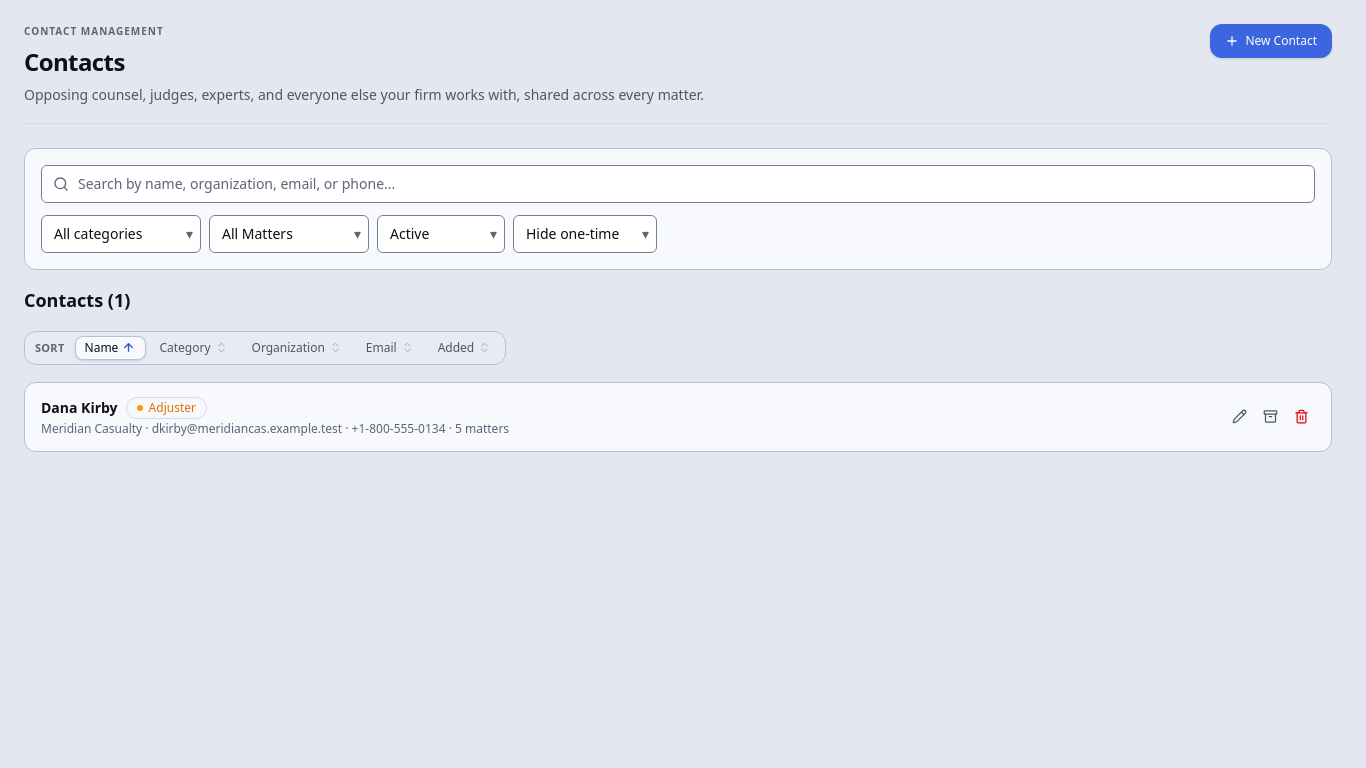
Test: ContactsGrid archive confirmation modal › shows a confirmation popup when clicking the archive button on an active contact
Expected: the text "Dana Kirby" is shown, top-left (41, 398), bottom-right (118, 418)
Note: Clicking archive opens the confirmation modal
Click the button named "Archive".
click(1270, 417)  # box top-left (1257, 403), bottom-right (1284, 430)
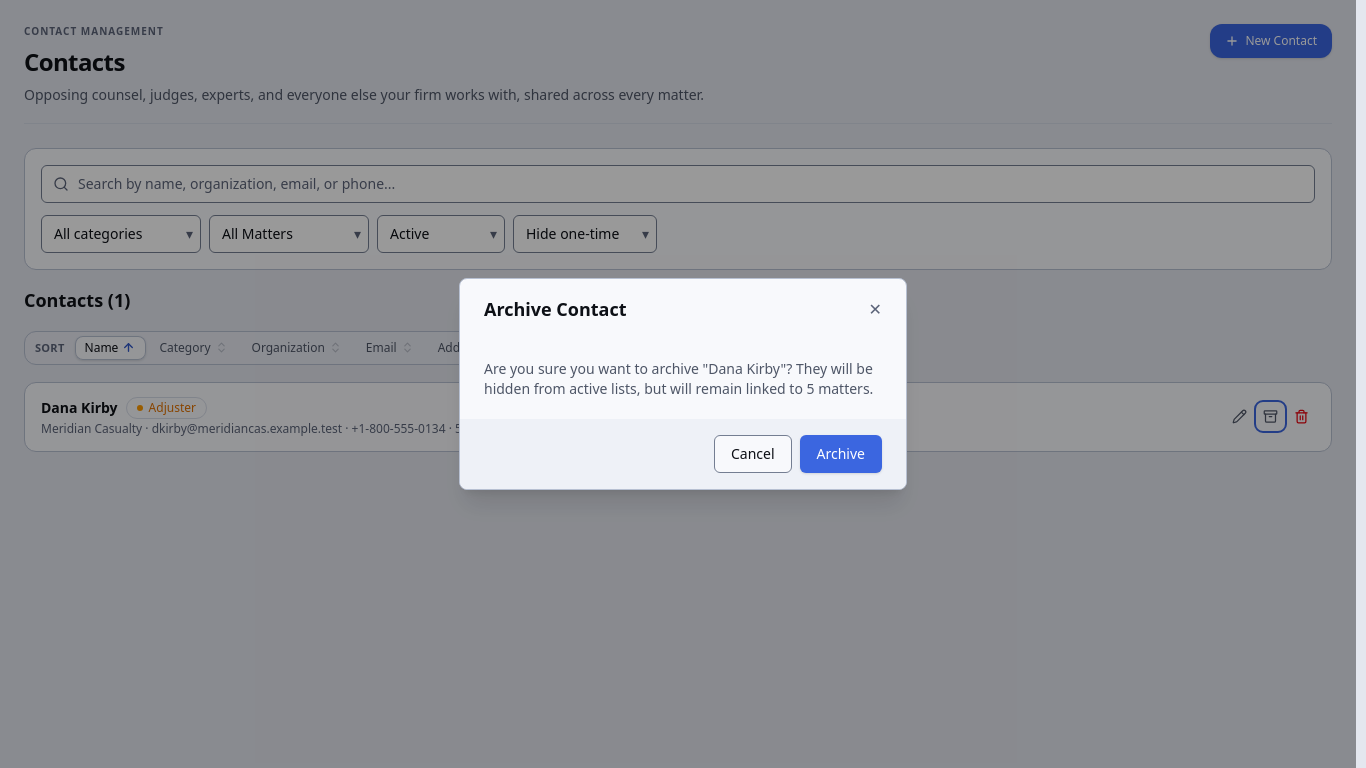
Expected: the heading "Archive Contact" is shown, top-left (484, 295), bottom-right (626, 323)
Expected: the text "Are you sure you want to archive \"Dana Kirby\"?" is shown, top-left (484, 359), bottom-right (873, 398)
Expected: the button "Cancel" is shown
Note: Clicking Cancel closes the modal without updating the contact
Click the button "Cancel".
click(753, 454)  # box top-left (714, 435), bottom-right (792, 473)
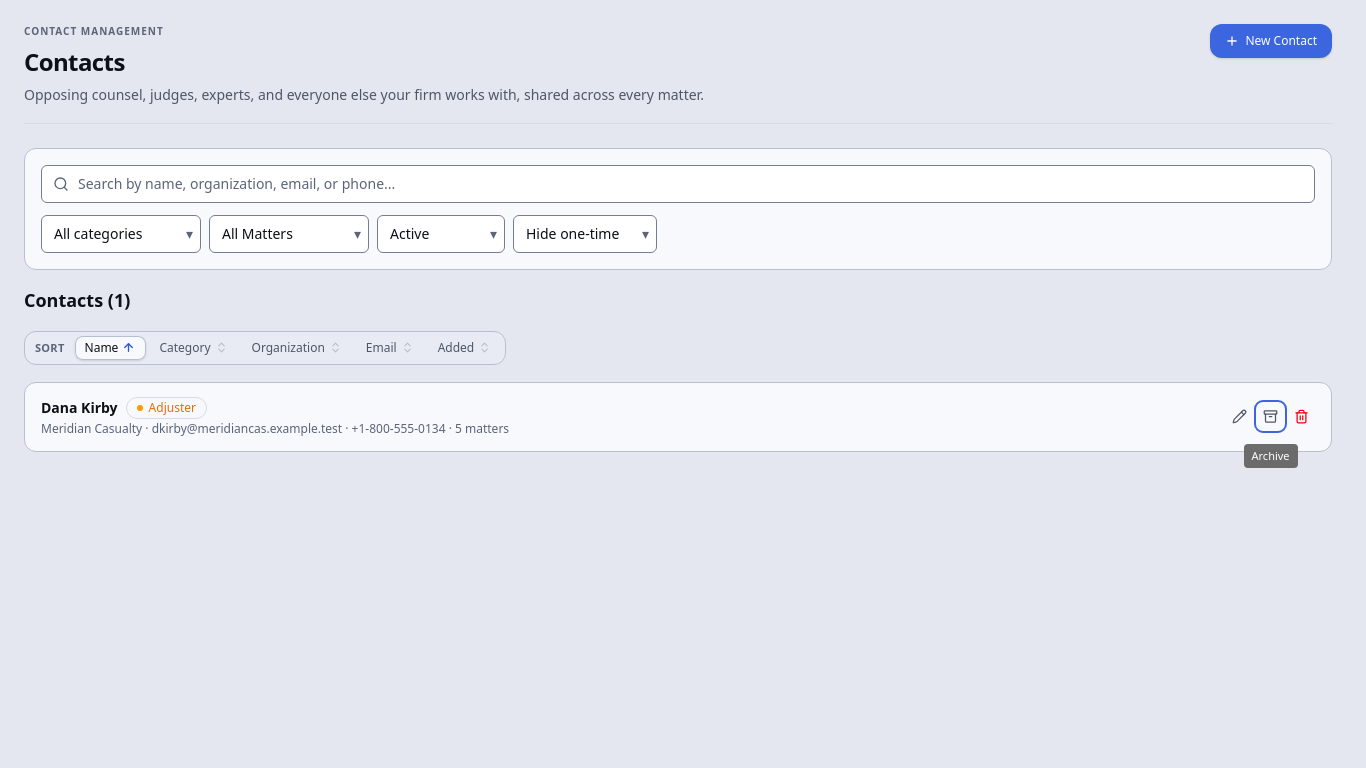
Expected: the dialog is gone
